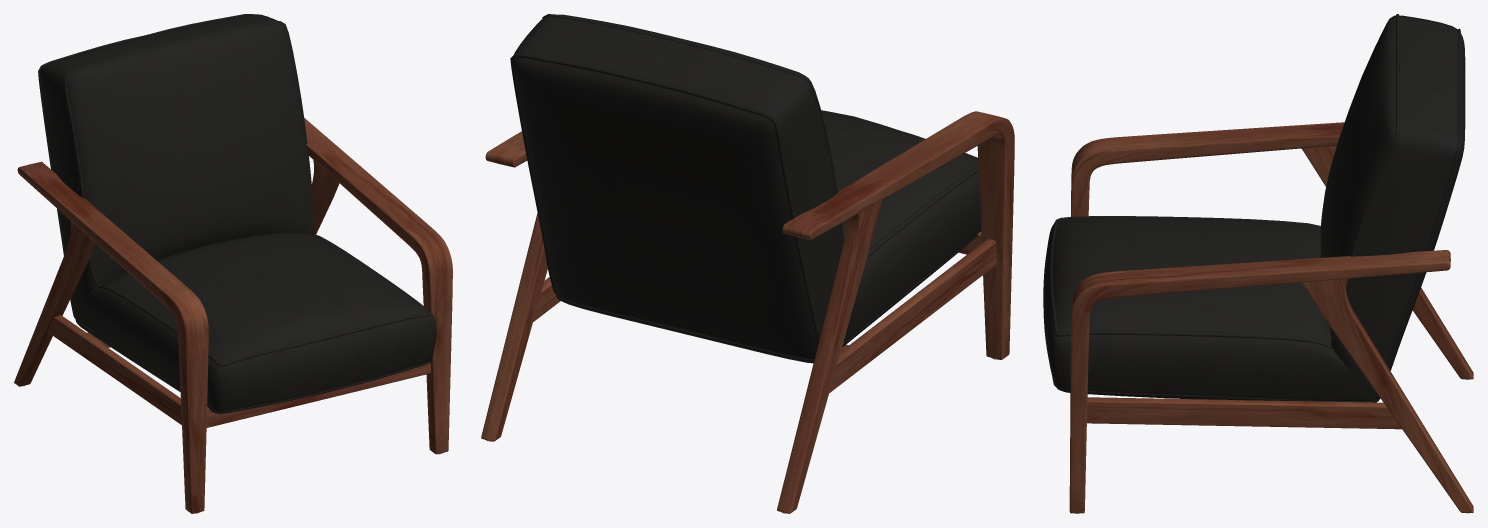
The model's file is B072PZVYC2.glb.
3 views of the same model, side by side, from view 1: azimuth 30°, elevation 25°; view 2: azimuth 150°, elevation 25°; view 3: azimuth 270°, elevation 25° (orthographic). The views are drawn at different scales.
Visible parts, largest first — view 1: B072PZVYC2; view 2: B072PZVYC2; view 3: B072PZVYC2.
Part boxes in pixels (box(x1,y1,x2,y2)): B072PZVYC2: box(14, 14, 452, 513); B072PZVYC2: box(481, 14, 1014, 513); B072PZVYC2: box(1043, 14, 1473, 513).
Size of the model in its own units: 0.7188 by 0.8611 by 0.889.
Materials: 1 (1 with a texture image).
